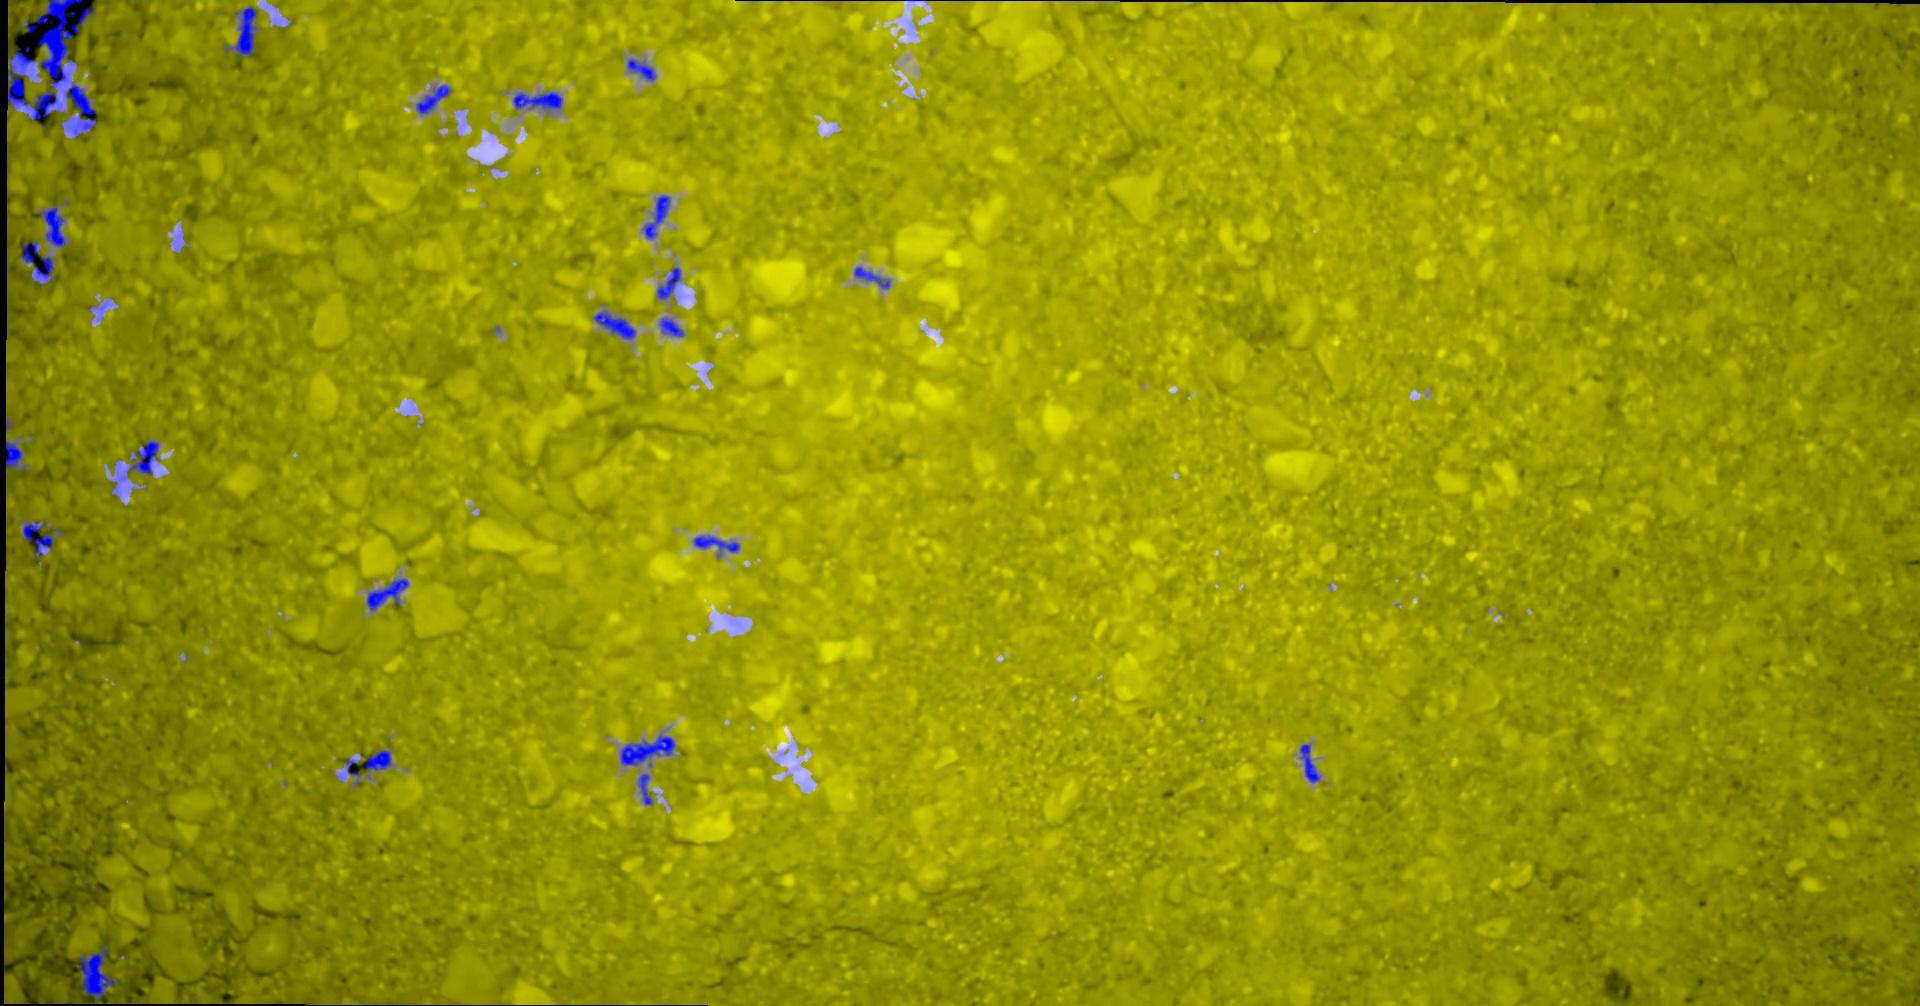ant: (77, 944, 116, 1000), (618, 734, 676, 766), (65, 83, 97, 136), (22, 521, 63, 558), (366, 578, 408, 610), (643, 194, 669, 239), (593, 311, 635, 339), (234, 6, 257, 56), (38, 205, 65, 246), (126, 439, 157, 473), (415, 84, 450, 113), (512, 91, 563, 109), (693, 535, 739, 553), (1299, 743, 1319, 782), (855, 265, 889, 288), (657, 267, 681, 298), (30, 254, 55, 285), (4, 439, 25, 469), (627, 58, 655, 80), (364, 749, 391, 770), (659, 318, 683, 337), (19, 240, 38, 263), (637, 774, 651, 804), (345, 760, 361, 776)
